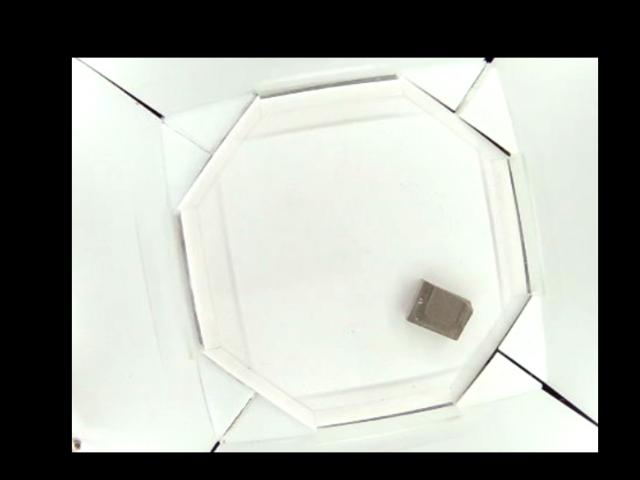China: (407, 281, 475, 340)
